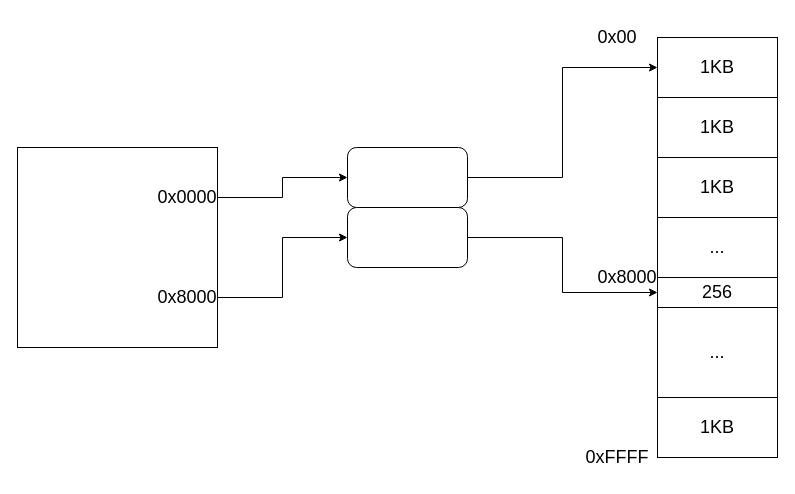
Image size: 795x494. Some labels were removed from this diagram. Each missing label, with the box of its shape:
Memory Manager: (16, 146, 218, 348)
RAM (256b): (346, 206, 468, 268)
ROM (1kb): (346, 146, 468, 208)
